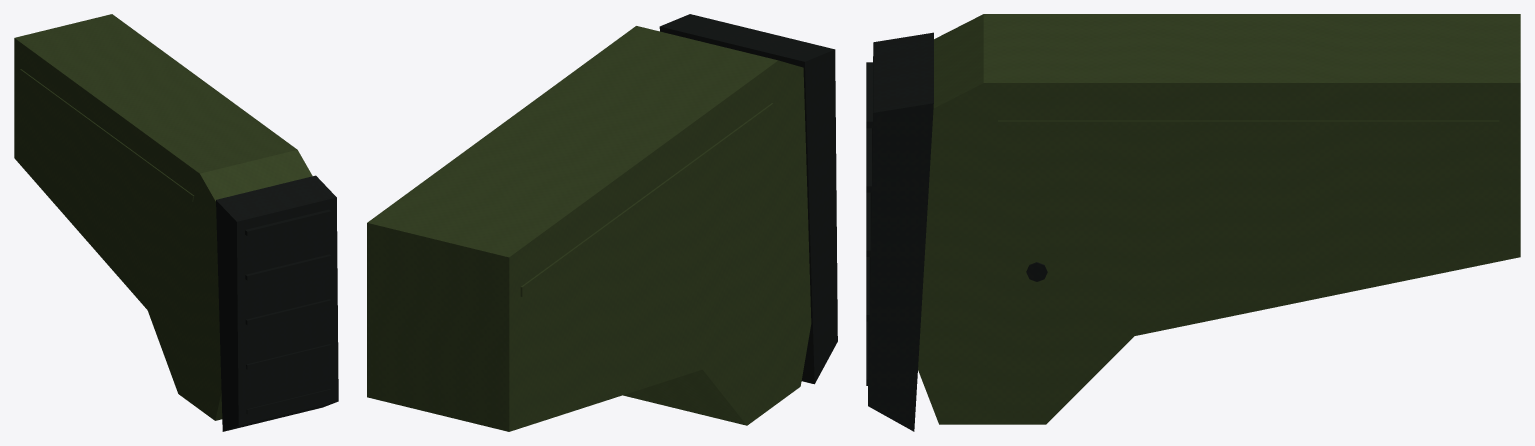
The model's file is aug_stock_padded.glb.
3 renders of one model, left to right at view 1: azimuth 30°, elevation 25°; view 2: azimuth 150°, elevation 25°; view 3: azimuth 270°, elevation 25°, orthographic. The views are drawn at different scales.
Parts seen in each view (by area): view 1: stock__aug_stock_padded_LOD0_RAID_Secondary_Original_olive, stock__aug_stock_padded_LOD1_RAID_Secondary_Original_olive, stock__aug_stock_padded_LOD0_RAID_Secondary_Original_rubber, stock__aug_stock_padded_LOD1_RAID_Secondary_Original_rubber; view 2: stock__aug_stock_padded_LOD0_RAID_Secondary_Original_olive, stock__aug_stock_padded_LOD1_RAID_Secondary_Original_olive, stock__aug_stock_padded_LOD0_RAID_Secondary_Original_rubber, stock__aug_stock_padded_LOD1_RAID_Secondary_Original_rubber; view 3: stock__aug_stock_padded_LOD1_RAID_Secondary_Original_olive, stock__aug_stock_padded_LOD0_RAID_Secondary_Original_olive, stock__aug_stock_padded_LOD0_RAID_Secondary_Original_rubber, stock__aug_stock_padded_LOD1_RAID_Secondary_Original_rubber.
Part boxes in pixels (left/top/right/bottom): stock__aug_stock_padded_LOD0_RAID_Secondary_Original_olive: left=17, top=17, right=307, bottom=416; stock__aug_stock_padded_LOD1_RAID_Secondary_Original_olive: left=14, top=14, right=312, bottom=420; stock__aug_stock_padded_LOD0_RAID_Secondary_Original_rubber: left=216, top=177, right=336, bottom=430; stock__aug_stock_padded_LOD1_RAID_Secondary_Original_rubber: left=216, top=175, right=338, bottom=431; stock__aug_stock_padded_LOD0_RAID_Secondary_Original_olive: left=373, top=27, right=810, bottom=423; stock__aug_stock_padded_LOD1_RAID_Secondary_Original_olive: left=367, top=26, right=811, bottom=431; stock__aug_stock_padded_LOD0_RAID_Secondary_Original_rubber: left=662, top=15, right=837, bottom=381; stock__aug_stock_padded_LOD1_RAID_Secondary_Original_rubber: left=659, top=14, right=837, bottom=384; stock__aug_stock_padded_LOD1_RAID_Secondary_Original_olive: left=918, top=14, right=1520, bottom=424; stock__aug_stock_padded_LOD0_RAID_Secondary_Original_olive: left=919, top=17, right=1513, bottom=417; stock__aug_stock_padded_LOD0_RAID_Secondary_Original_rubber: left=866, top=34, right=1047, bottom=428; stock__aug_stock_padded_LOD1_RAID_Secondary_Original_rubber: left=868, top=32, right=933, bottom=431.
Bounding box in the file's own units: 0.095 × 0.216 × 0.368.
2 materials, 2 textured.
